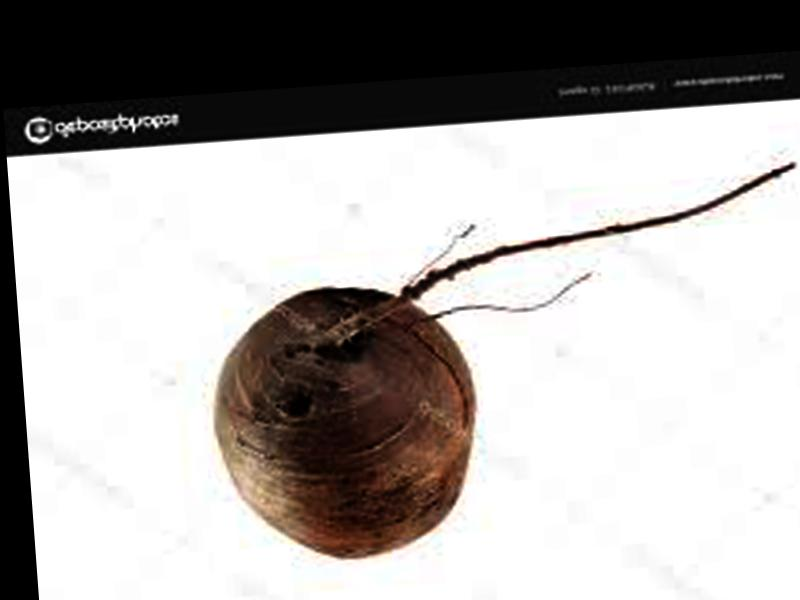Beet: (201, 161, 800, 564)
